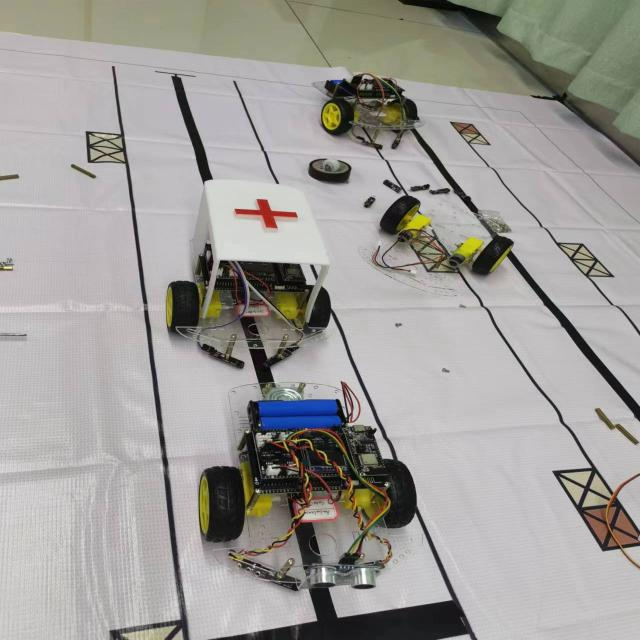RedCross: (225, 195, 302, 235)
